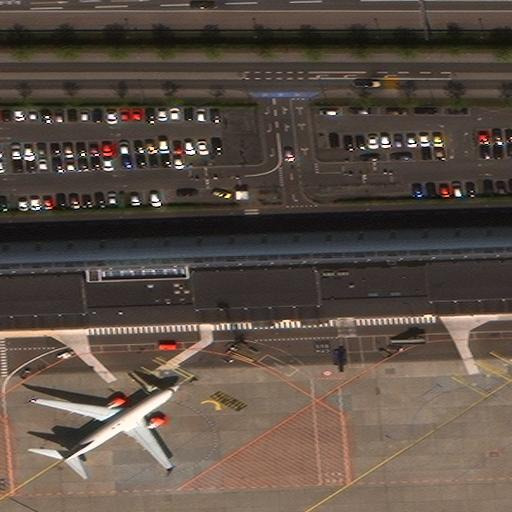Medium Civil Transport: (30, 382, 181, 467)
